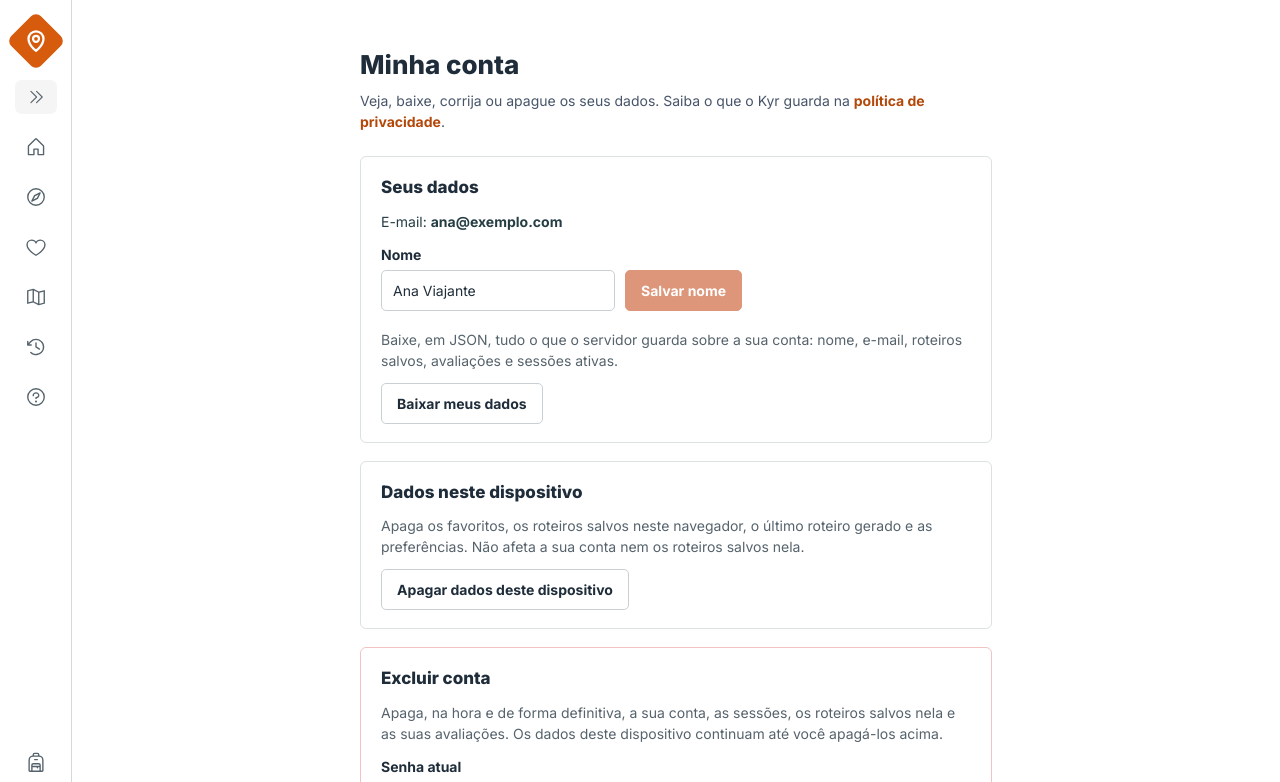
tela Minha conta › corrige o nome e só habilita o botão quando o nome muda
Expected: the button "Salvar nome" is disabled, [625,270,742,310]
Replace the text in the field labelled "Nome" with "Ana Souza" at (498, 290), box [381,270,615,310]
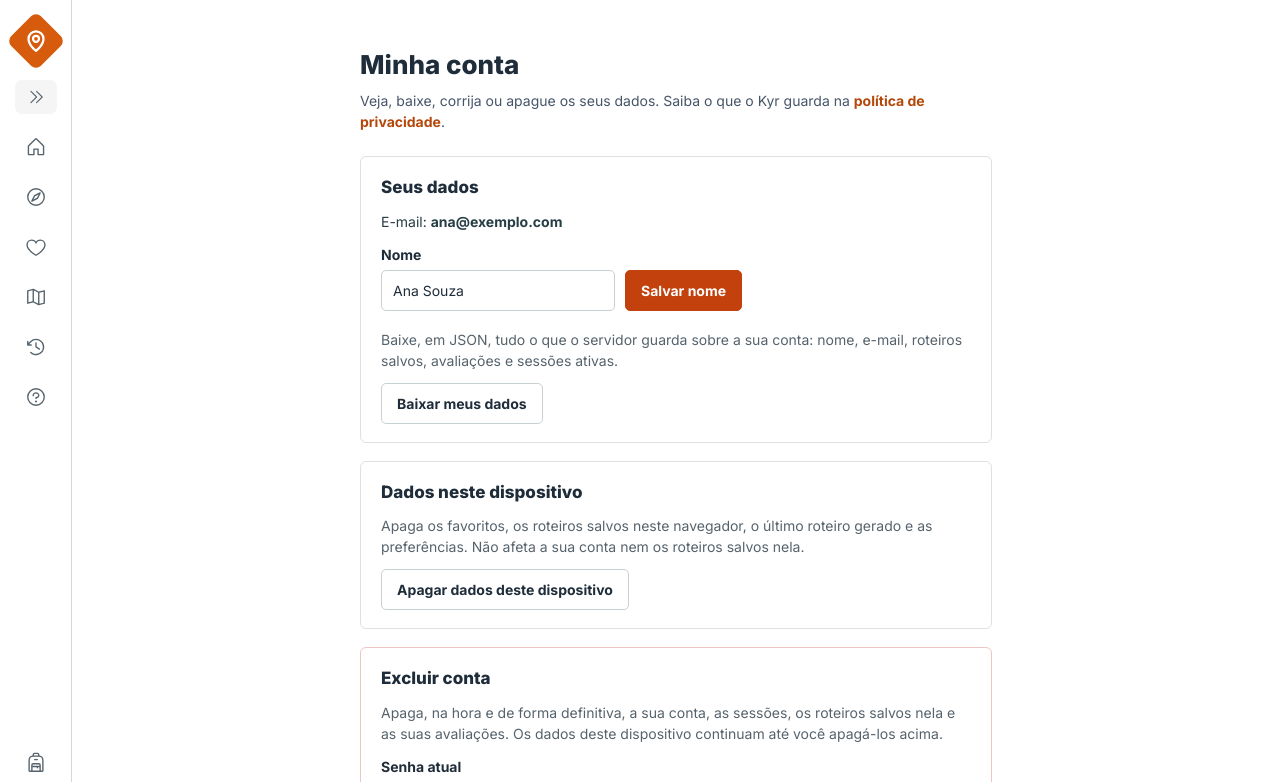
Click the button "Salvar nome" at (684, 290), box [625,270,742,310]
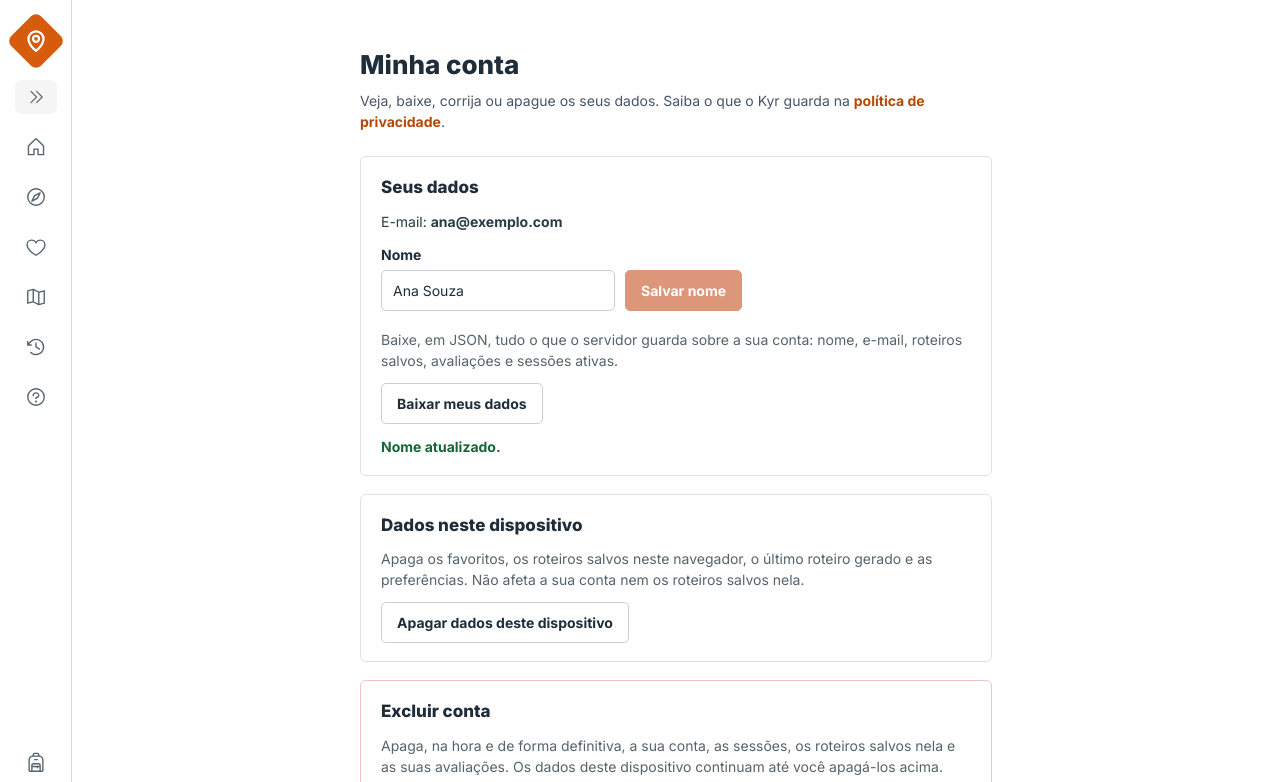
Result: the text "Nome atualizado." is shown at [381,438,501,454]
